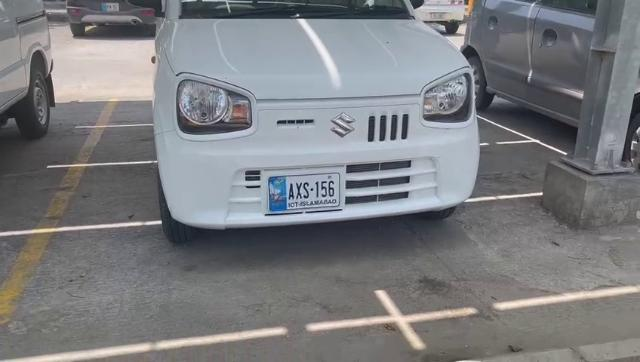plate: (267, 174, 343, 210)
